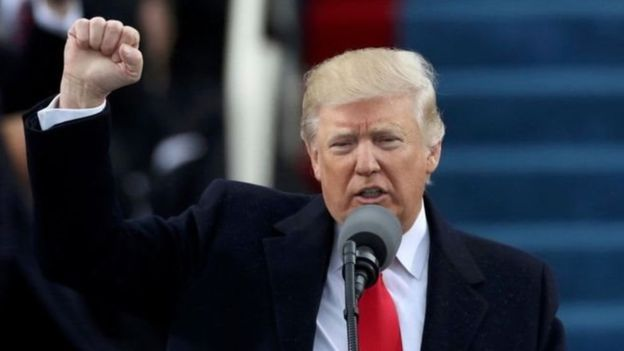fist: (58, 15, 149, 102)
